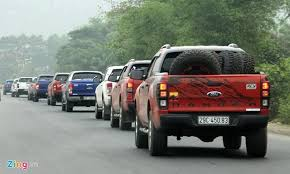Bien-so: (198, 115, 230, 124)
